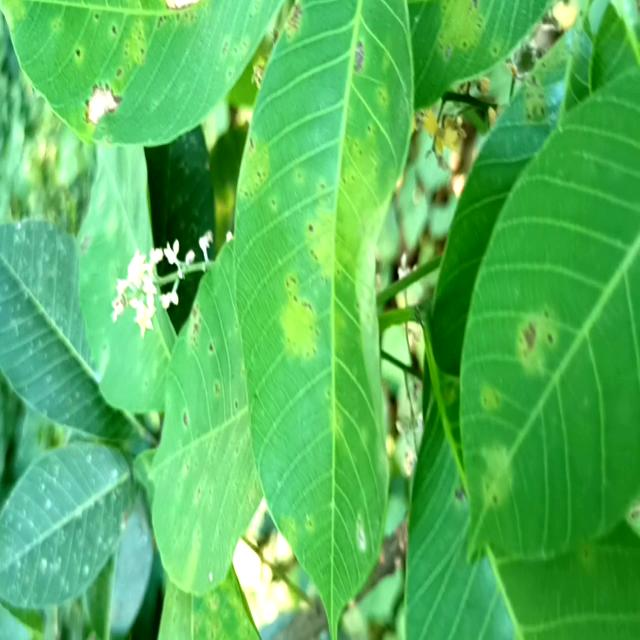Leaf-Blight: (87, 85, 118, 123), (163, 0, 200, 9)
